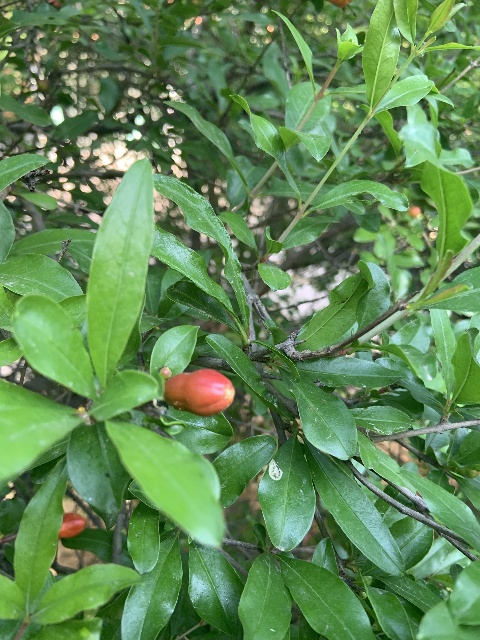bud: (163, 367, 234, 416), (57, 512, 86, 539)
